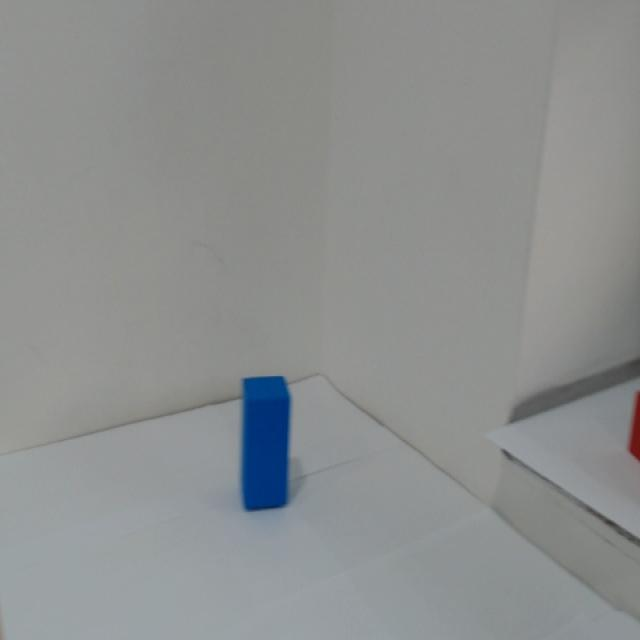cube: (211, 360, 312, 546)
